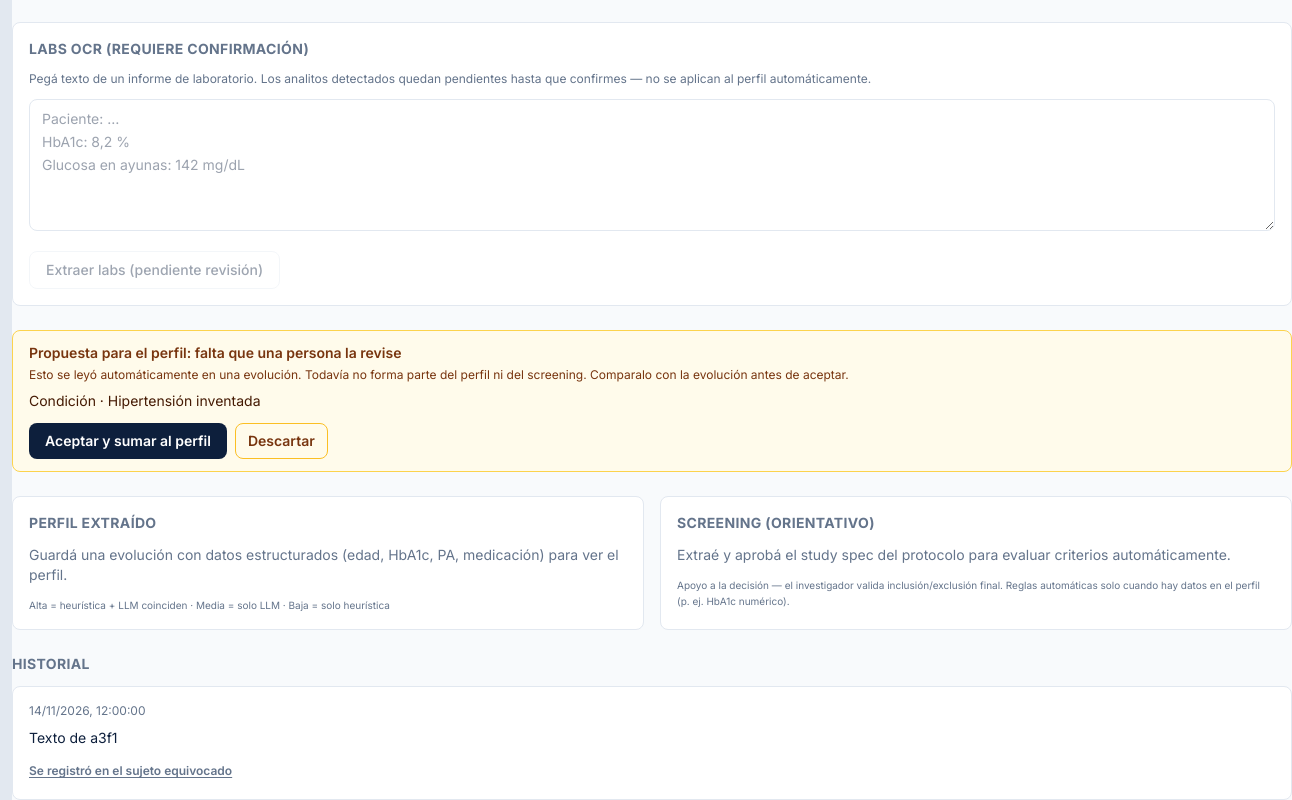
después de una declaración confirmada › si la historia no se puede volver a leer, la acción no se ofrece de nuevo y la tarjeta dice que quedó como estaba antes
This screenshot has width=1292, height=800.
(page scrolled)
Click the button "Se registró en el sujeto equivocado": (131, 771) [29,763,232,779]
(page scrolled)
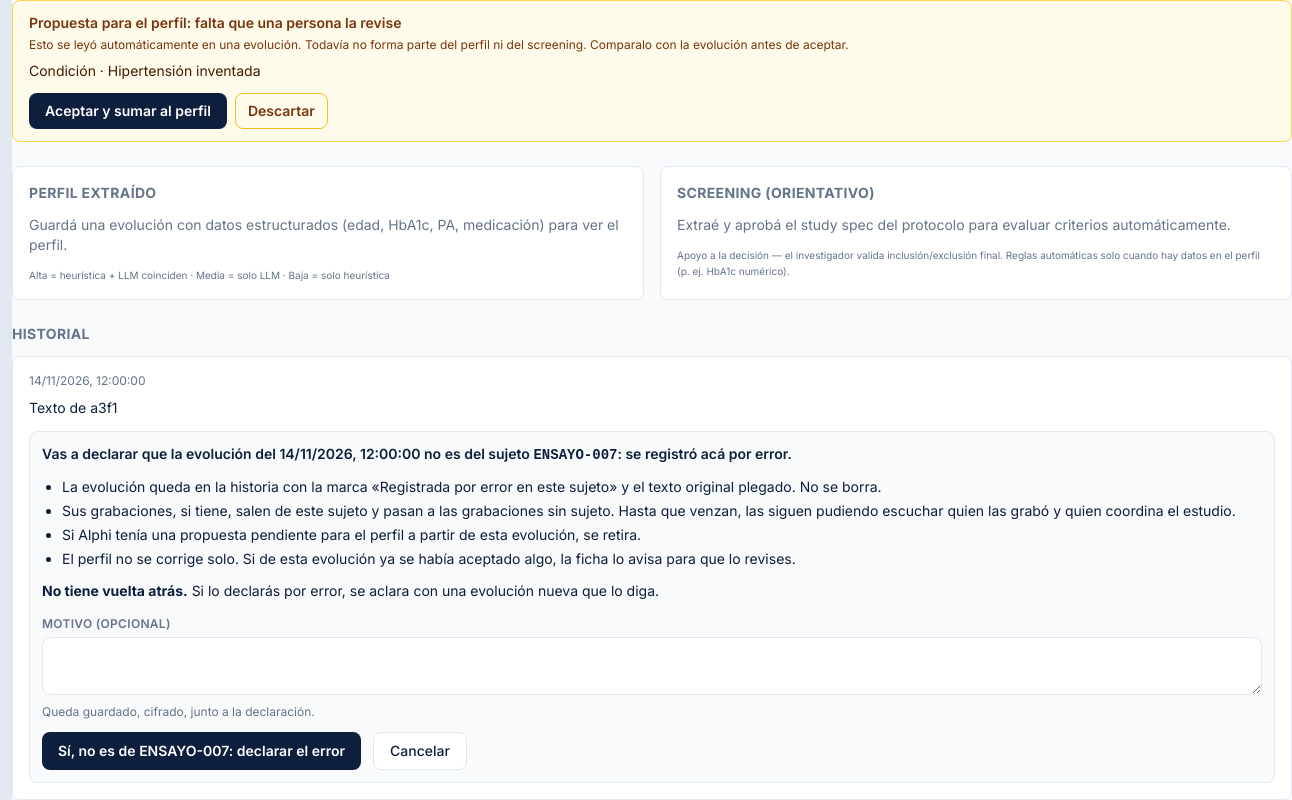
Click the button "Sí, no es de ENSAYO-007: declarar el error": (202, 751) [42,732,361,770]
(page scrolled)
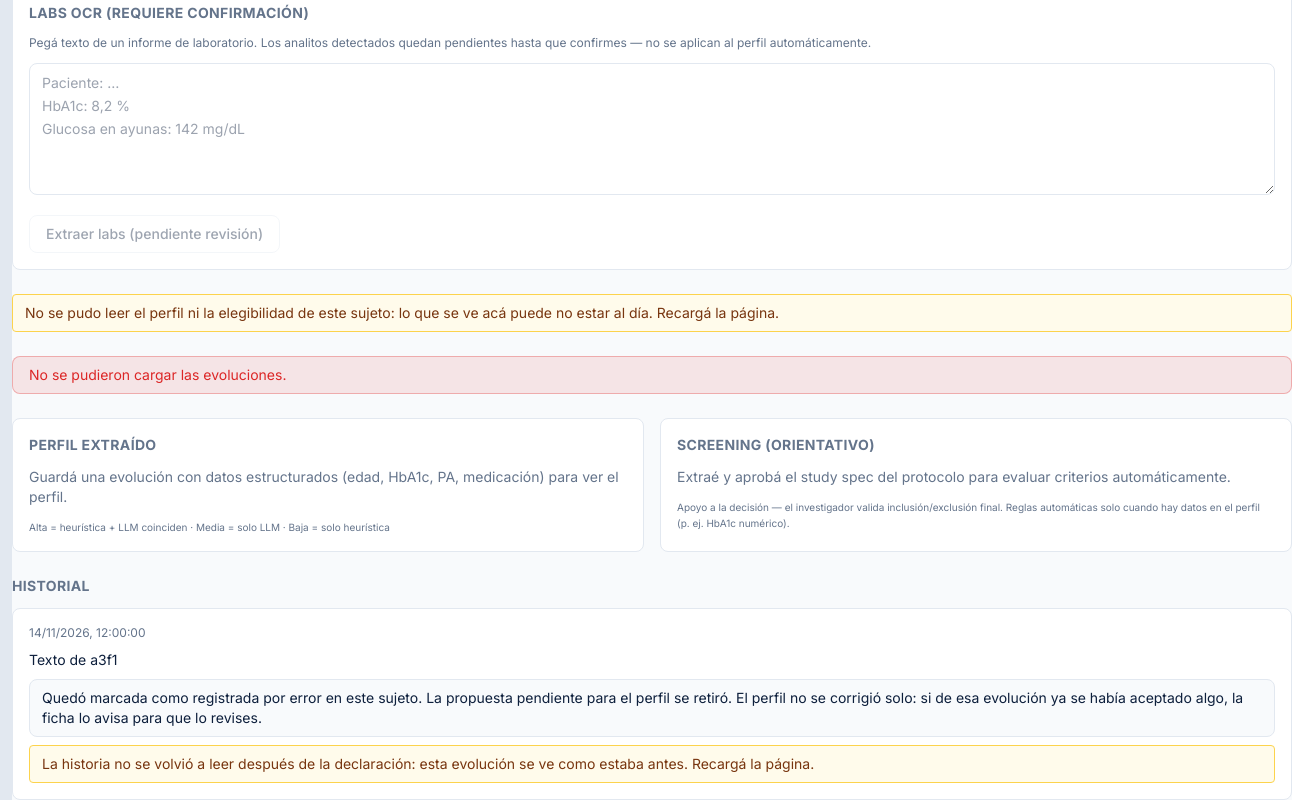
expect the list item shows "Quedó marcada como registrada por error en este sujeto.": met, box [42,689,1243,726]
expect the list item shows "La historia no se volvió a leer después de la declaración: esta evolución se ve como estaba antes. Recargá la página.": met, box [42,755,814,772]
expect the text "No se pudieron cargar las evoluciones." is shown: met, box [12,356,1291,394]
